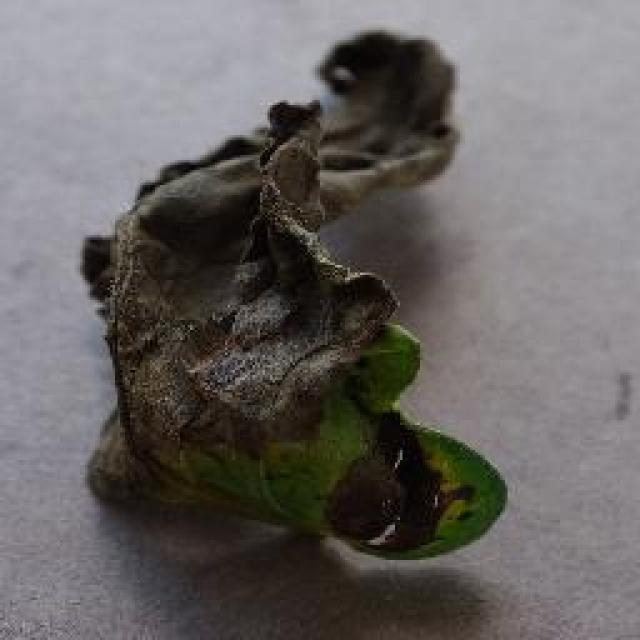Tomato Early blight leaf: (74, 45, 526, 585)
